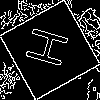H: (25, 25, 78, 72)
